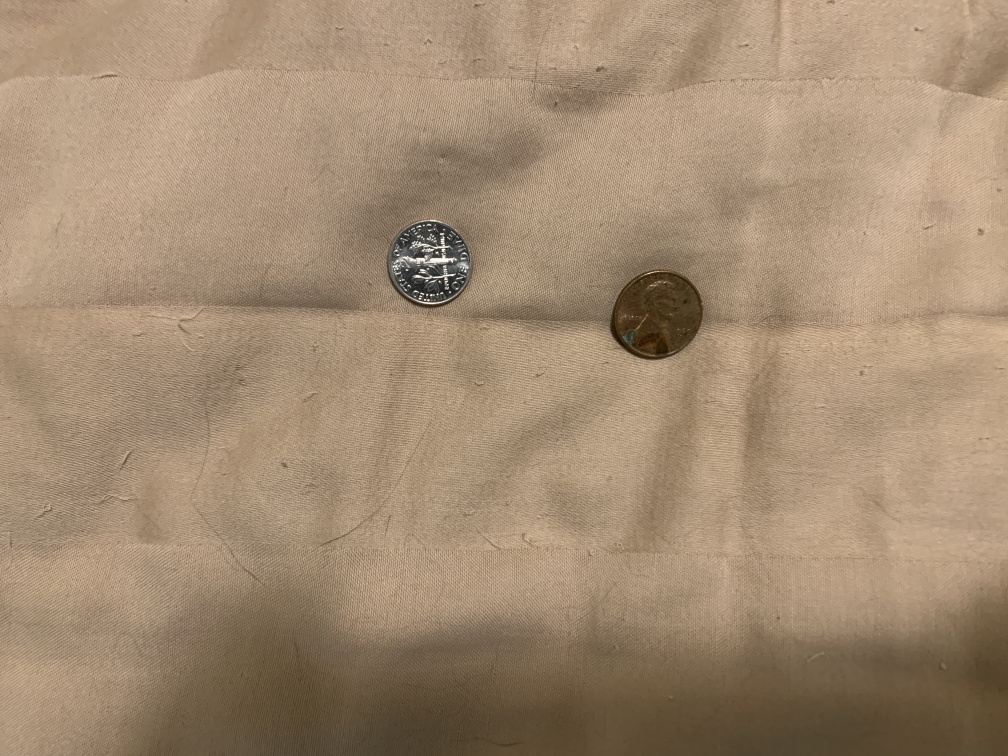dime: (383, 217, 474, 314)
penny: (608, 268, 705, 363)
